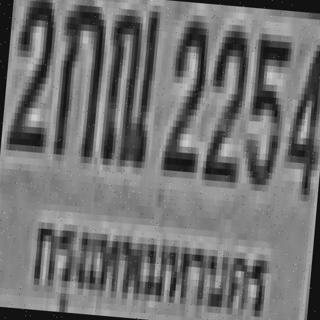A01: (51, 0, 106, 154)
A19: (99, 2, 160, 162)
N02: (160, 13, 208, 172), (202, 20, 249, 179), (6, 0, 56, 146)
N04: (282, 36, 320, 196)
N05: (240, 27, 290, 186)
P04: (17, 197, 280, 320)
